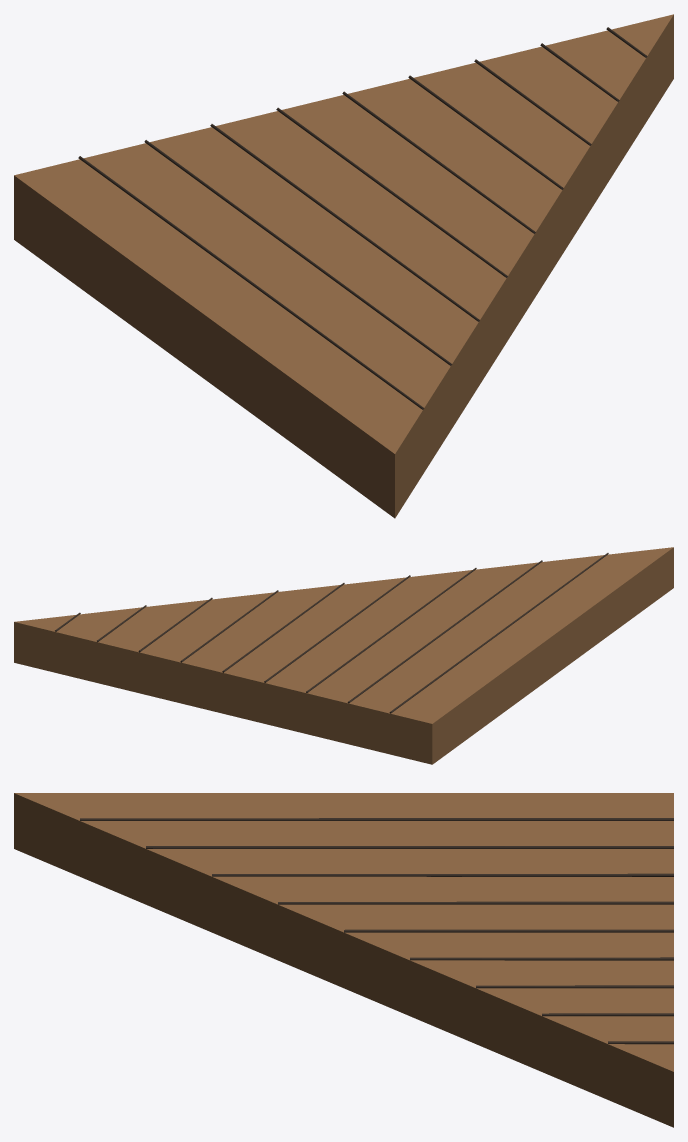
File: Floor_Triangle_Foundation.glb
3 views of the same model, one above another, from view 1: azimuth 30°, elevation 25°; view 2: azimuth 150°, elevation 25°; view 3: azimuth 270°, elevation 25° (orthographic). The views are drawn at different scales.
Visible parts, largest first — view 1: _MeshInstance3D_3833, _MeshInstance3D_3837, _MeshInstance3D_3836, _MeshInstance3D_3838, _MeshInstance3D_3839, _MeshInstance3D_3840, _MeshInstance3D_3841, _MeshInstance3D_3842; view 2: _MeshInstance3D_3833, _MeshInstance3D_3835, _MeshInstance3D_3837, _MeshInstance3D_3838, _MeshInstance3D_3839, _MeshInstance3D_3840, _MeshInstance3D_3841, _MeshInstance3D_3842; view 3: _MeshInstance3D_3833, _MeshInstance3D_3836, _MeshInstance3D_3838, _MeshInstance3D_3839, _MeshInstance3D_3840, _MeshInstance3D_3841, _MeshInstance3D_3842, _MeshInstance3D_3843, _MeshInstance3D_3844, _MeshInstance3D_3845.
Boxes of the visible parts, bbox=[...] form: _MeshInstance3D_3833: bbox=[14, 14, 673, 453]; _MeshInstance3D_3837: bbox=[14, 175, 394, 518]; _MeshInstance3D_3836: bbox=[395, 15, 673, 518]; _MeshInstance3D_3838: bbox=[78, 156, 424, 409]; _MeshInstance3D_3839: bbox=[144, 140, 452, 365]; _MeshInstance3D_3840: bbox=[210, 124, 479, 321]; _MeshInstance3D_3841: bbox=[276, 107, 507, 277]; _MeshInstance3D_3842: bbox=[342, 91, 535, 233]; _MeshInstance3D_3833: bbox=[14, 547, 673, 723]; _MeshInstance3D_3835: bbox=[14, 622, 432, 764]; _MeshInstance3D_3837: bbox=[432, 547, 673, 764]; _MeshInstance3D_3838: bbox=[389, 553, 608, 713]; _MeshInstance3D_3839: bbox=[347, 560, 542, 703]; _MeshInstance3D_3840: bbox=[306, 568, 476, 692]; _MeshInstance3D_3841: bbox=[264, 575, 410, 682]; _MeshInstance3D_3842: bbox=[222, 583, 344, 672]; _MeshInstance3D_3833: bbox=[14, 793, 673, 1071]; _MeshInstance3D_3836: bbox=[14, 793, 673, 1127]; _MeshInstance3D_3838: bbox=[80, 818, 673, 820]; _MeshInstance3D_3839: bbox=[146, 846, 673, 848]; _MeshInstance3D_3840: bbox=[212, 873, 673, 876]; _MeshInstance3D_3841: bbox=[278, 901, 673, 904]; _MeshInstance3D_3842: bbox=[344, 929, 673, 932]; _MeshInstance3D_3843: bbox=[410, 957, 673, 960]; _MeshInstance3D_3844: bbox=[476, 985, 673, 988]; _MeshInstance3D_3845: bbox=[542, 1013, 673, 1016].
Size of the model in its own units: 3 by 0.295 by 3.
